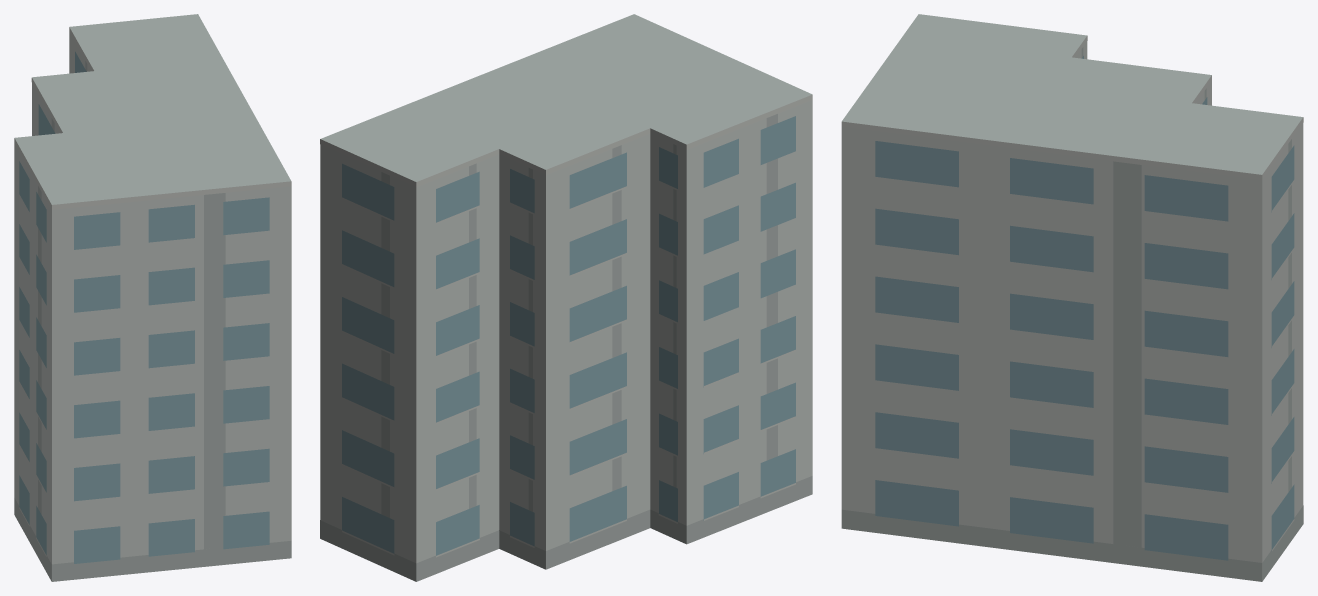
Rendered from survey-upis-32927985.glb.
3 renders of one model, left to right at view 1: azimuth 30°, elevation 25°; view 2: azimuth 150°, elevation 25°; view 3: azimuth 270°, elevation 25°, orthographic. The views are drawn at different scales.
Parts seen in each view (by area): view 1: survey-upis-32927985.tmp; view 2: survey-upis-32927985.tmp; view 3: survey-upis-32927985.tmp.
Part boxes in pixels (x1,y1,x2,y2): survey-upis-32927985.tmp: (14, 14, 291, 581); survey-upis-32927985.tmp: (320, 14, 812, 581); survey-upis-32927985.tmp: (841, 14, 1303, 581).
Size of the model in its own units: 15.52 by 18.3 by 18.83.
